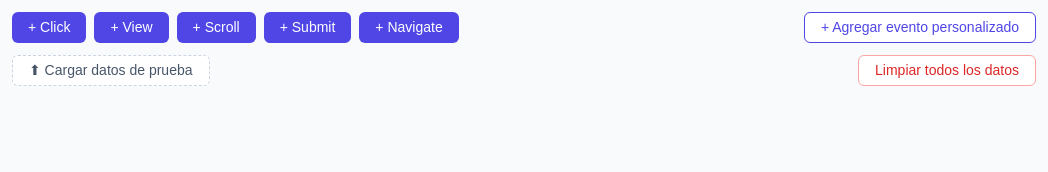
Scenario: Seed load › shows the success message after a successful load
Click the button "⬆ Cargar datos de prueba" at x=111, y=70, box [12, 55, 210, 86]
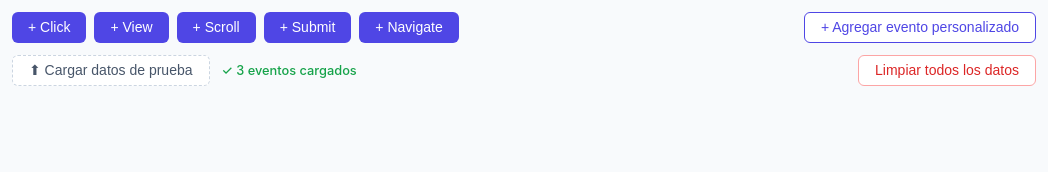
expect the text "✓ 3 eventos cargados" is shown: met, box [222, 63, 357, 78]
